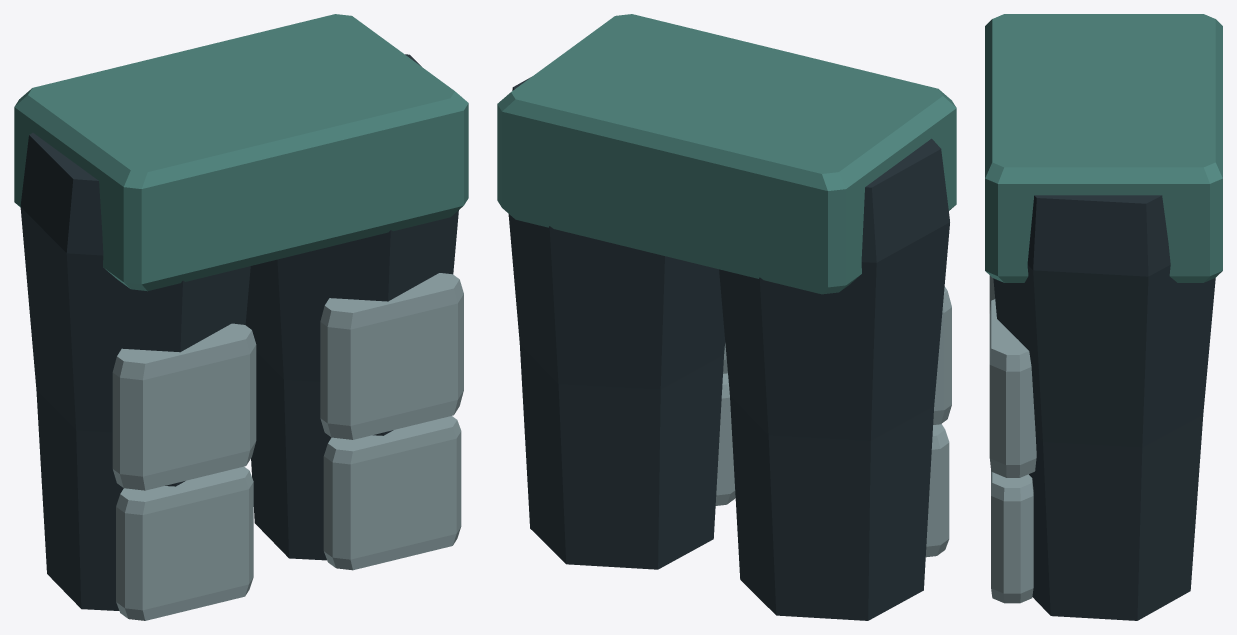
Rendered from SM_NPC_BOTTOM_002_ArmoredPants.glb.
3 views of the same model, side by side, from view 1: azimuth 30°, elevation 25°; view 2: azimuth 150°, elevation 25°; view 3: azimuth 270°, elevation 25° (orthographic). The views are drawn at different scales.
Visible parts, largest first — view 1: SM_NPC_BOTTOM_002_ArmoredPants; view 2: SM_NPC_BOTTOM_002_ArmoredPants; view 3: SM_NPC_BOTTOM_002_ArmoredPants.
Part boxes in pixels (left/top/right/bottom): SM_NPC_BOTTOM_002_ArmoredPants: left=14, top=14, right=468, bottom=620; SM_NPC_BOTTOM_002_ArmoredPants: left=497, top=14, right=956, bottom=620; SM_NPC_BOTTOM_002_ArmoredPants: left=985, top=14, right=1222, bottom=620.
Bounding box in the file's own units: 0.5216 × 0.58 × 0.28.
